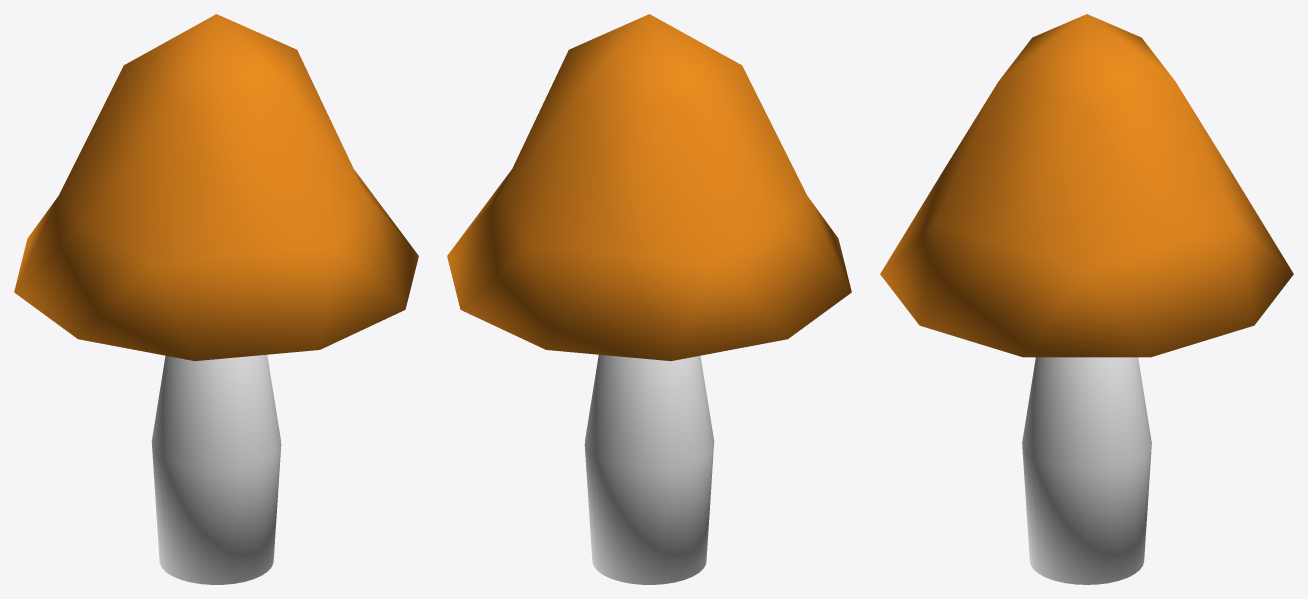
Rendered from orangemushroom.glb.
3 views of the same model, side by side, from view 1: azimuth 30°, elevation 25°; view 2: azimuth 150°, elevation 25°; view 3: azimuth 270°, elevation 25° (orthographic).
Visible parts, largest first — view 1: Icosphere, Cylinder; view 2: Icosphere, Cylinder; view 3: Icosphere, Cylinder.
Boxes of the visible parts, bbox=[...] form: Icosphere: bbox=[14, 14, 418, 360]; Cylinder: bbox=[151, 354, 281, 584]; Icosphere: bbox=[447, 14, 851, 360]; Cylinder: bbox=[584, 354, 714, 584]; Icosphere: bbox=[880, 14, 1293, 357]; Cylinder: bbox=[1022, 357, 1151, 584].
Size of the model in its own units: 6.06 by 9.29 by 6.38.
